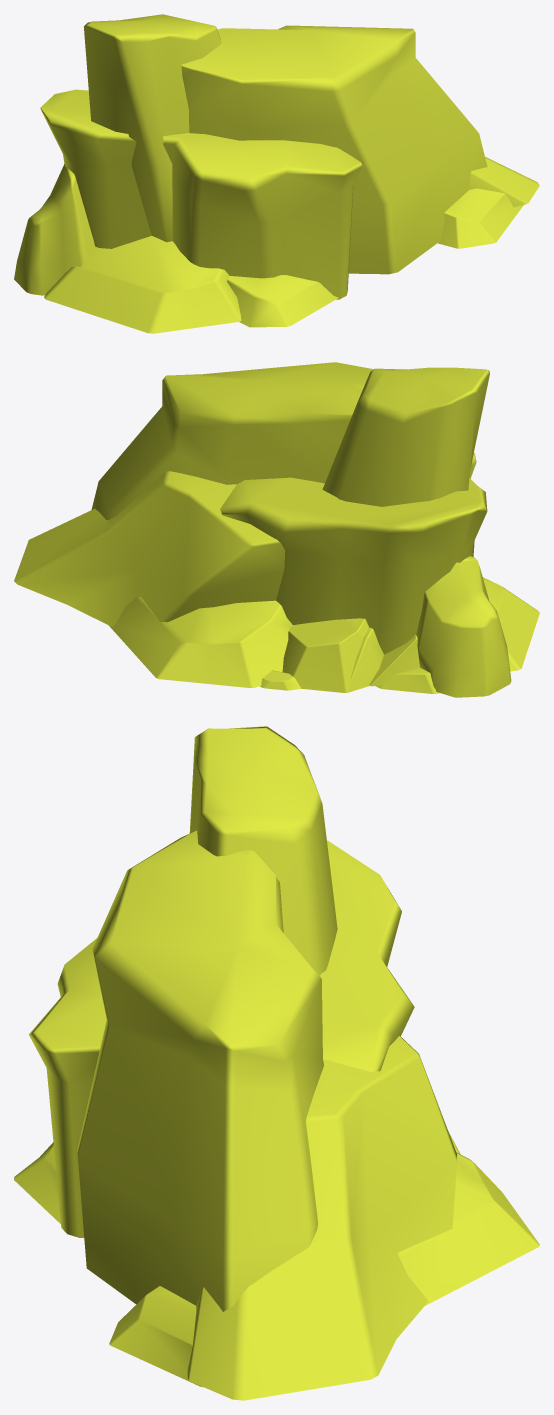
The model's file is grp_rocks_03.fbx.
The picture shows the model from 3 angles, top to bottom: view 1: azimuth 30°, elevation 25°; view 2: azimuth 150°, elevation 25°; view 3: azimuth 270°, elevation 25°; orthographic projection. The views are drawn at different scales.
Visible parts, largest first — view 1: grp_rocks_03; view 2: grp_rocks_03; view 3: grp_rocks_03.
Part boxes in pixels (bbox=[...]): grp_rocks_03: bbox=[14, 14, 539, 333]; grp_rocks_03: bbox=[14, 362, 539, 697]; grp_rocks_03: bbox=[14, 726, 539, 1400].
Size of the model in its own units: 1661 by 874 by 1090.
